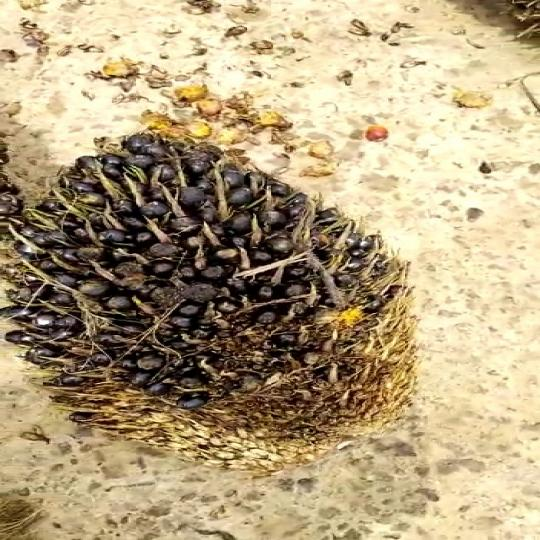mentah: (1, 119, 442, 468)
